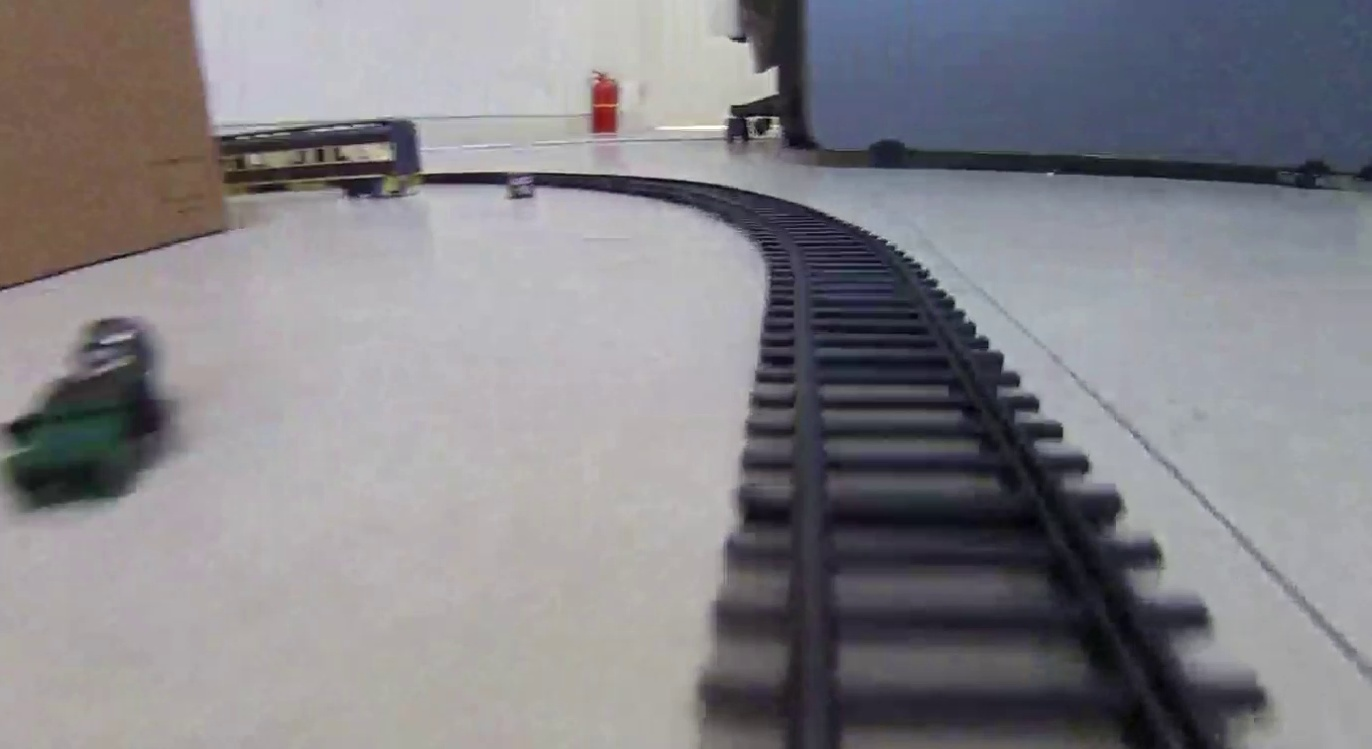people: (6, 313, 173, 509)
